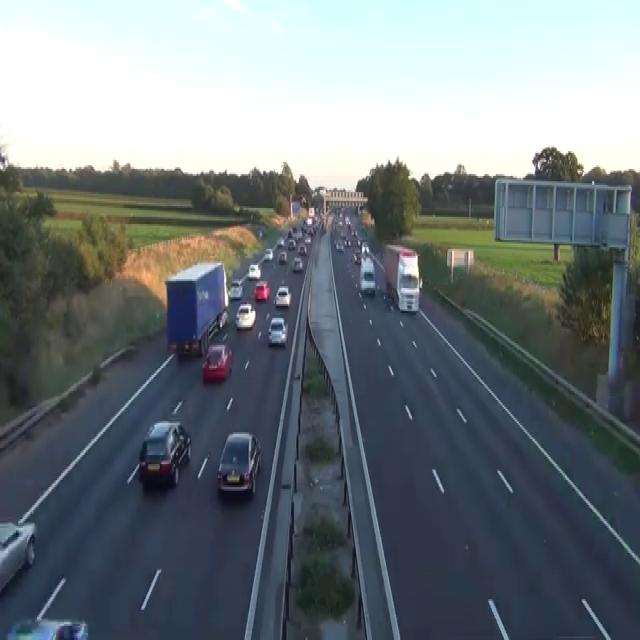Car: (5, 576, 88, 638), (138, 420, 191, 487), (217, 430, 261, 496), (0, 519, 36, 594), (5, 617, 88, 638), (202, 343, 232, 382), (54, 620, 88, 638), (234, 302, 256, 329), (267, 316, 287, 345), (274, 284, 291, 308), (254, 279, 270, 301), (228, 281, 242, 299), (216, 309, 228, 329), (247, 263, 260, 279), (362, 258, 374, 274), (292, 256, 303, 272), (264, 247, 273, 260), (335, 238, 344, 251), (353, 249, 361, 263), (278, 251, 287, 263), (297, 244, 307, 254), (361, 242, 369, 254), (288, 238, 296, 249), (276, 237, 284, 247), (231, 278, 241, 286), (344, 215, 350, 226), (304, 234, 311, 243), (321, 224, 326, 233), (351, 230, 357, 237), (340, 230, 346, 237), (287, 230, 292, 238), (258, 230, 262, 238)
Truck: (164, 260, 229, 358), (383, 242, 421, 313), (359, 254, 375, 295)
